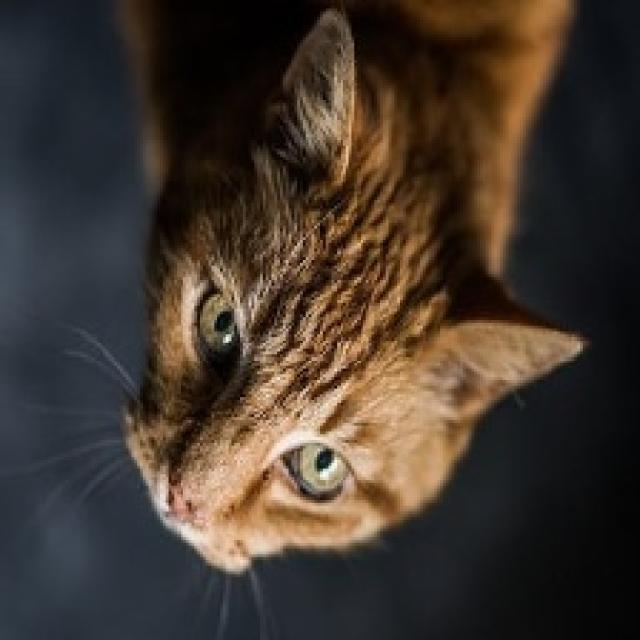Angry: (124, 228, 409, 594)
